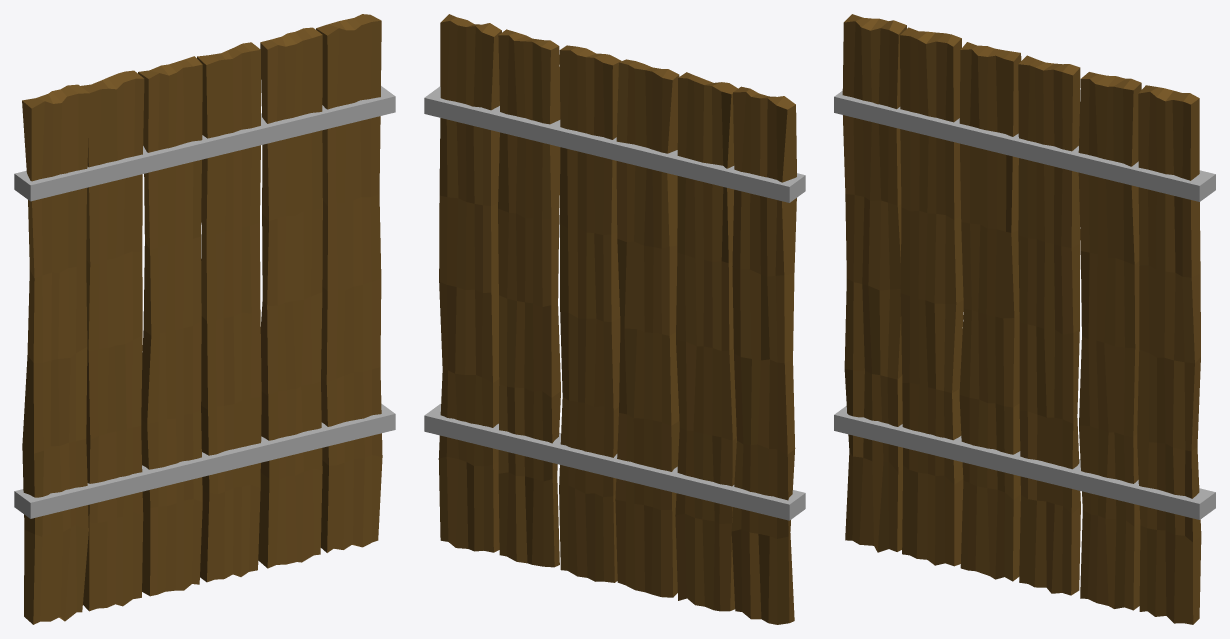
The model's file is Door.glb.
3 views of the same model, side by side, from view 1: azimuth 30°, elevation 25°; view 2: azimuth 150°, elevation 25°; view 3: azimuth 330°, elevation 25° (orthographic).
Visible parts, largest first — view 1: Board.001; view 2: Board.001; view 3: Board.001.
Part boxes in pixels (bbox=[...]): Board.001: bbox=[14, 14, 395, 624]; Board.001: bbox=[424, 14, 805, 624]; Board.001: bbox=[834, 14, 1215, 624].
Bounding box in the file's own units: 1.74 × 2.42 × 0.1327.
